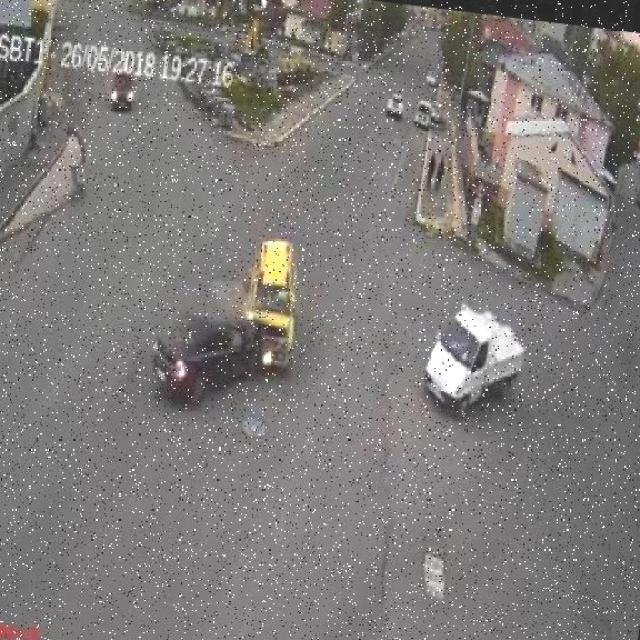accident: (134, 218, 310, 419)
